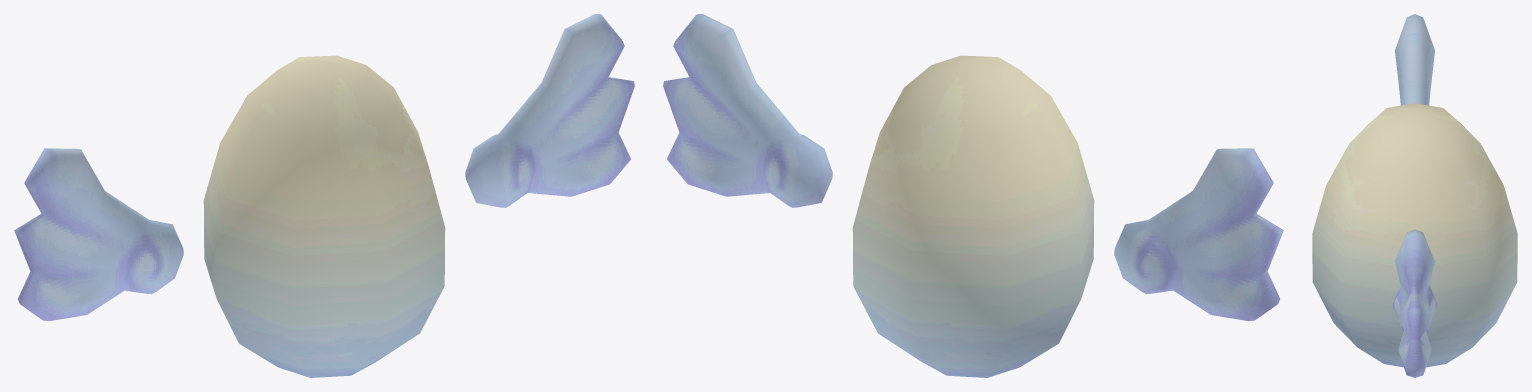
Rendered from ps2_save-icons_ripplenotamago-originalversion.glb.
3 views of the same model, side by side, from view 1: azimuth 30°, elevation 25°; view 2: azimuth 150°, elevation 25°; view 3: azimuth 270°, elevation 25° (orthographic). The views are drawn at different scales.
Parts seen in each view (by area): view 1: ICON.ICO; view 2: ICON.ICO; view 3: ICON.ICO.
Boxes of the visible parts, <box> form: ICON.ICO: <box>14,14,634,377</box>; ICON.ICO: <box>663,14,1283,377</box>; ICON.ICO: <box>1312,14,1517,377</box>.
Size of the model in its own units: 4.73 by 2.19 by 1.65.
1 material, 1 textured.
